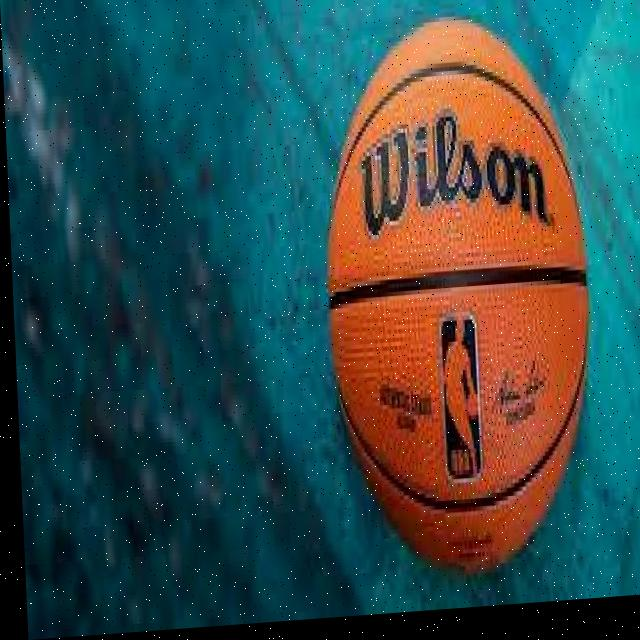Basketball: (310, 12, 598, 583)
